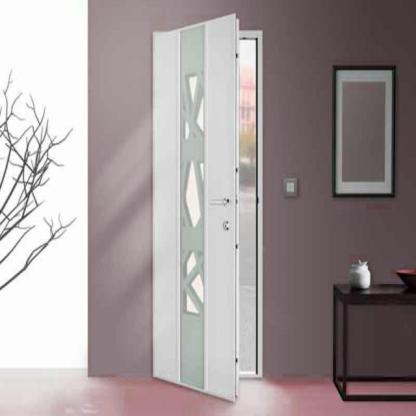door: (152, 8, 266, 411)
